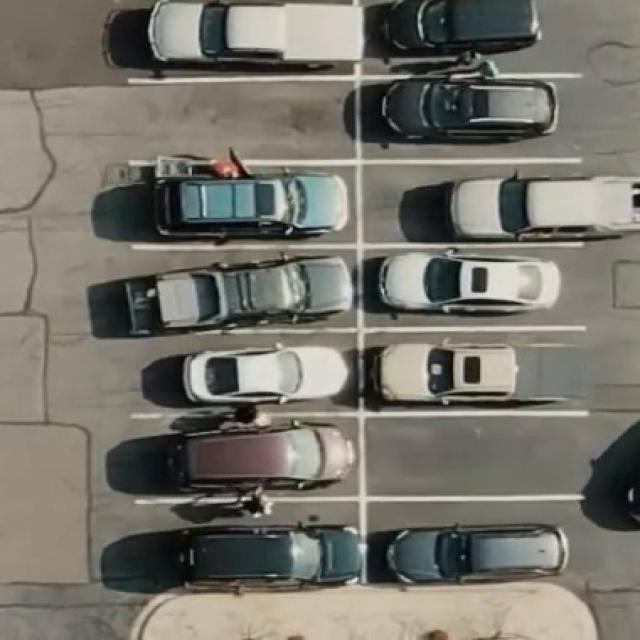empty: (128, 87, 354, 154), (371, 425, 584, 484)
notEmpty: (139, 514, 355, 586), (370, 340, 594, 408), (137, 254, 354, 324), (372, 172, 590, 239), (134, 171, 352, 237), (135, 6, 351, 71), (376, 514, 576, 582), (138, 427, 355, 488), (371, 256, 581, 317), (144, 345, 350, 405), (378, 88, 574, 148), (377, 9, 570, 63)
